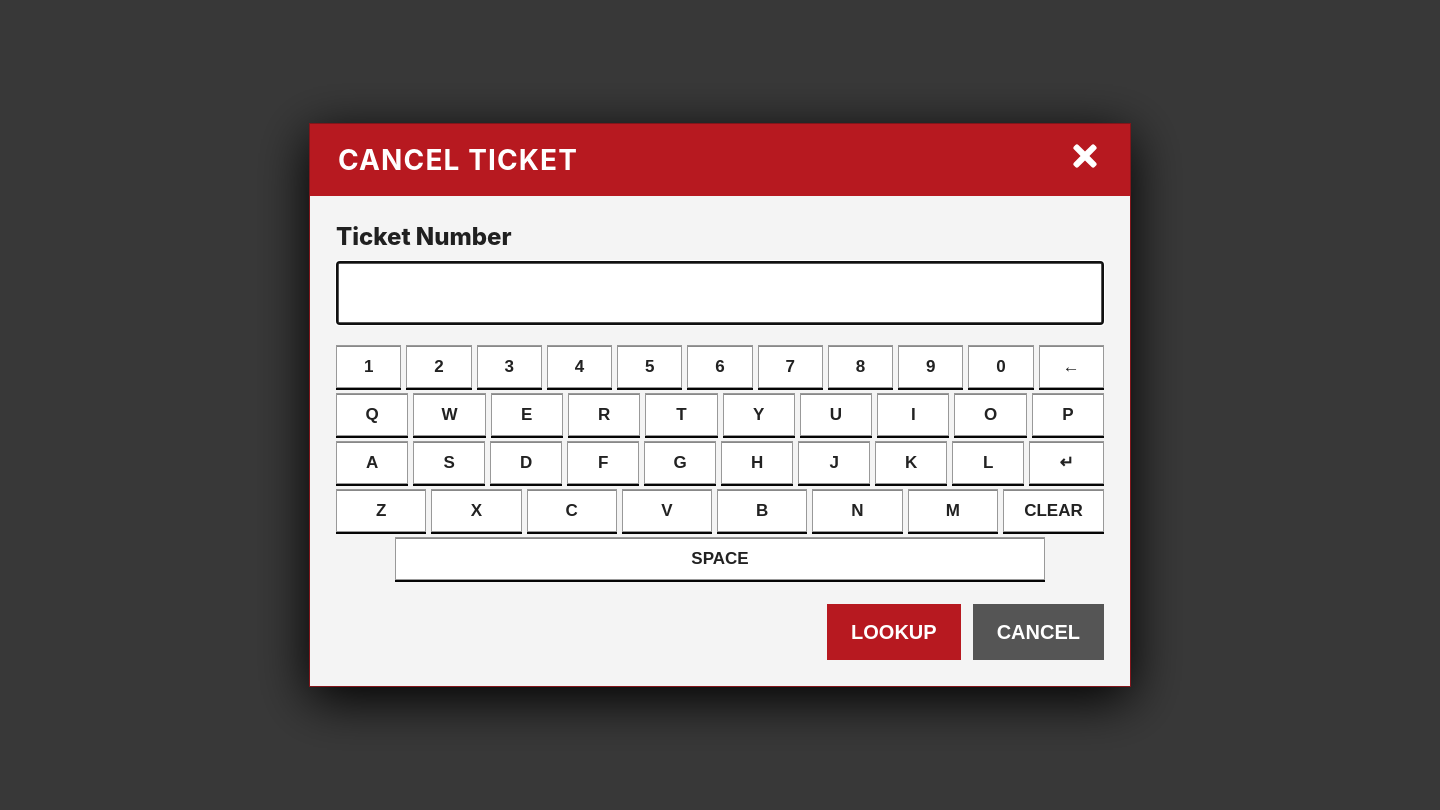
Test: canCancel=false displays the reason and disables confirm
Type " vt-abc " into the field labelled "Ticket Number".
click(720, 293); type(" vt-abc ")  # box [336,261,1104,325]
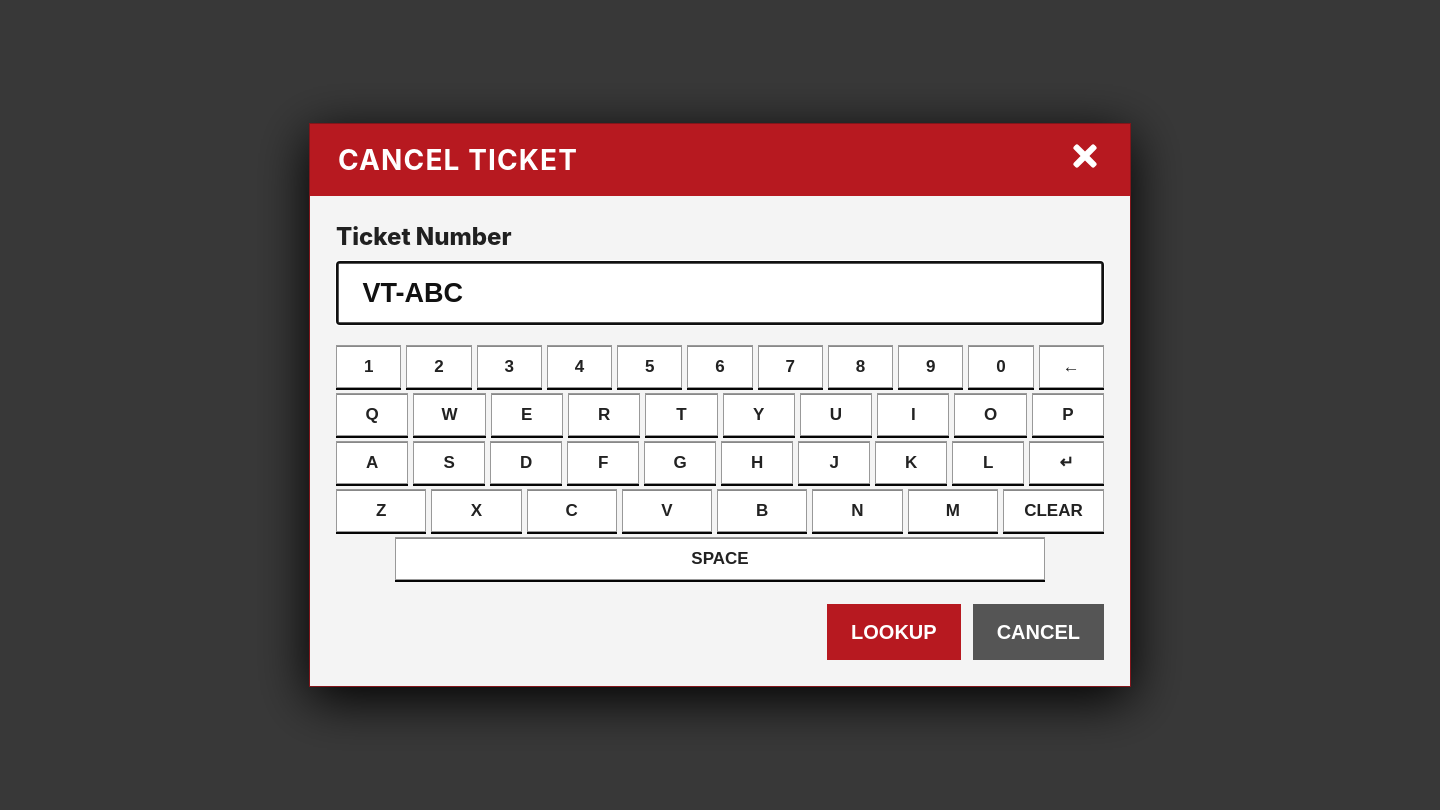
Press Enter in the field labelled "Ticket Number", box [336,261,1104,325]
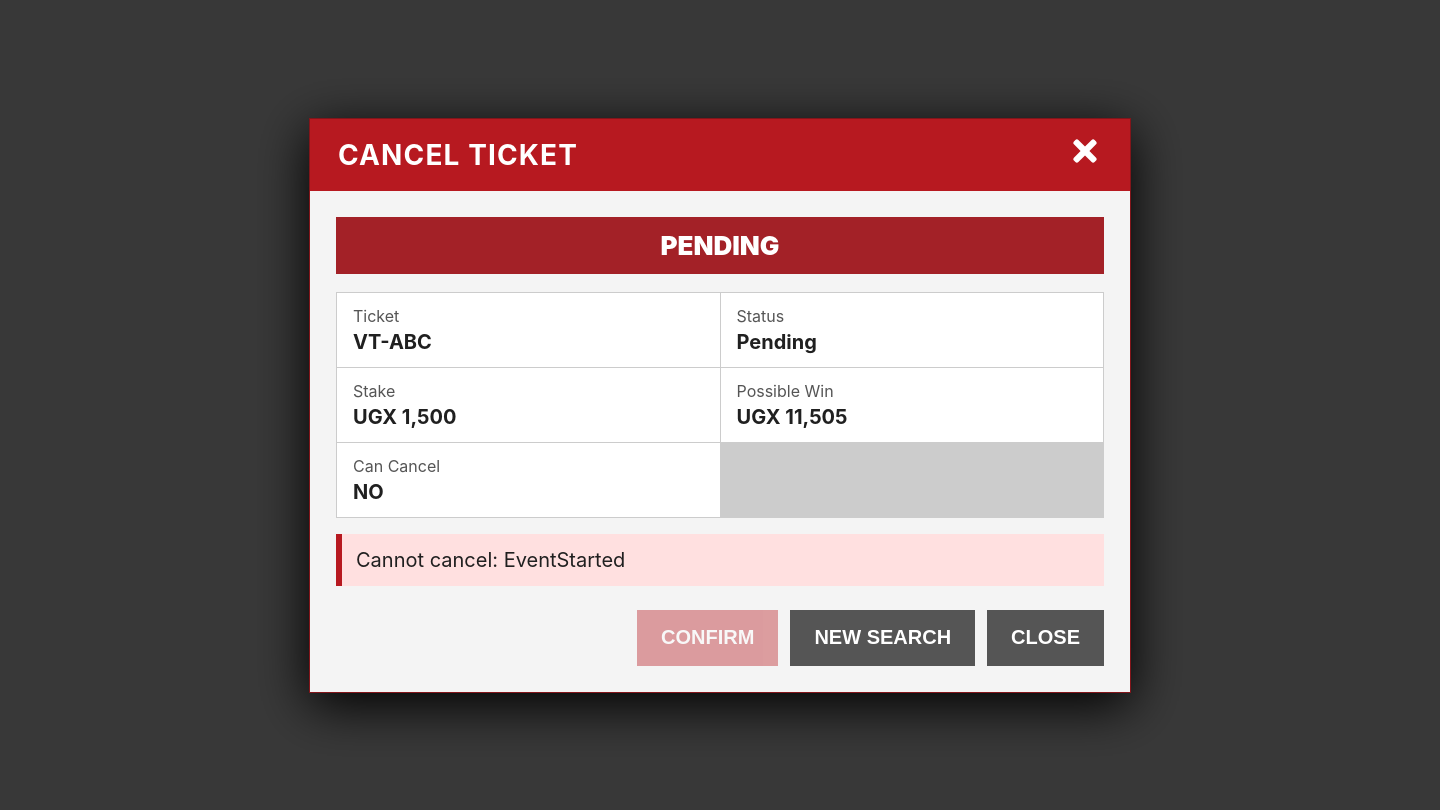
Check: the text "UGX 11,505" is shown, box [736,404,848,428]
Check: the text "Cannot cancel: EventStarted" is shown, box [336,534,1104,586]
Check: the button "CONFIRM" is disabled, box [637,610,778,666]
